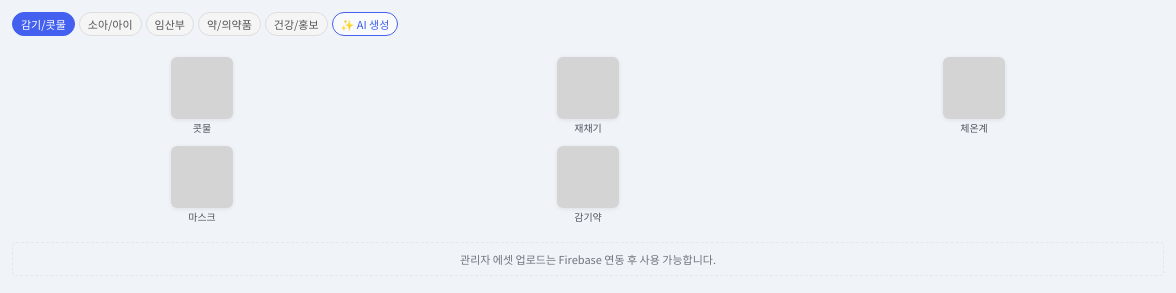
Scenario: AssetPanel — 카테고리 탭 전환 › 다른 카테고리 탭을 클릭하면 해당 카테고리의 에셋이 표시된다
The image size is (1176, 293).
Click the button "소아/아이" at (110, 24), box [79,12,142,36]
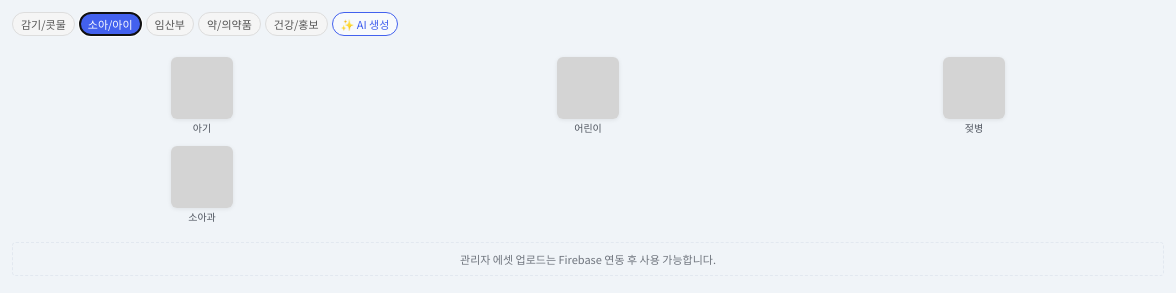
Expected: the button titled "아기" is shown, [12,54,392,137]
Expected: the button titled "어린이" is shown, [398,54,778,137]
Expected: the button titled "젖병" is shown, [784,54,1164,137]
